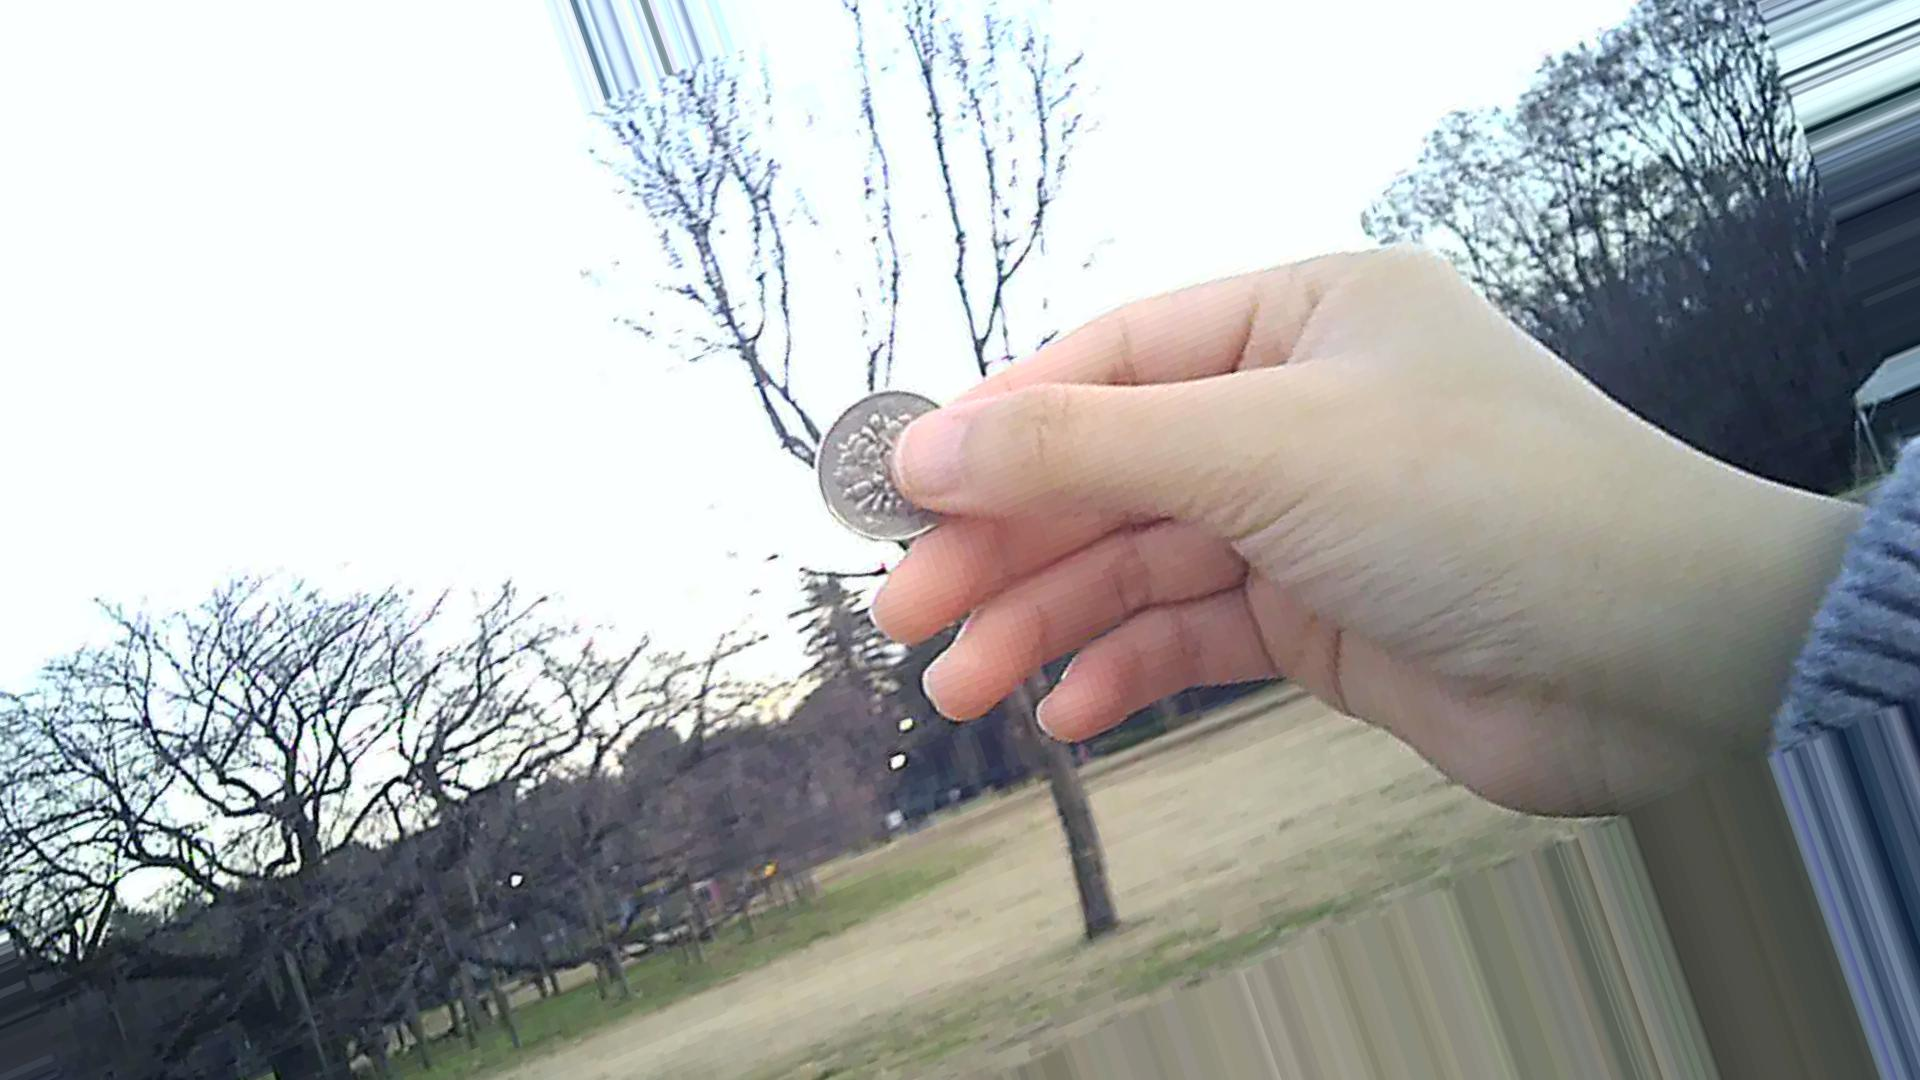100 Yen: (814, 386, 978, 547)
